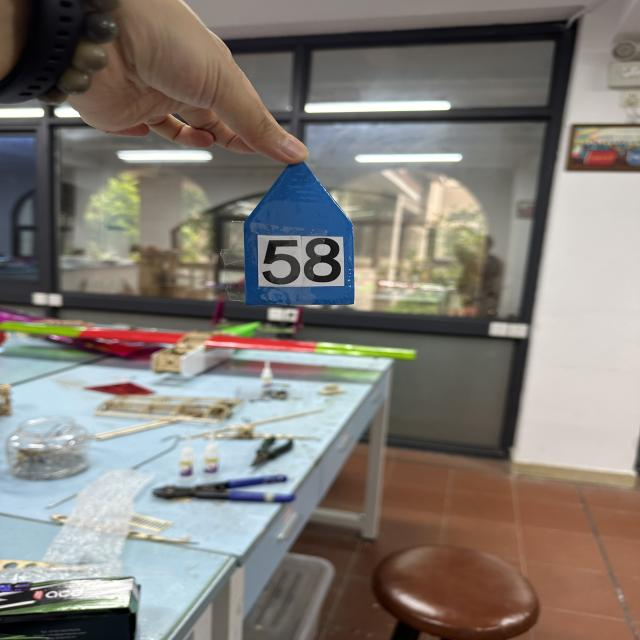board: (241, 158, 361, 309)
